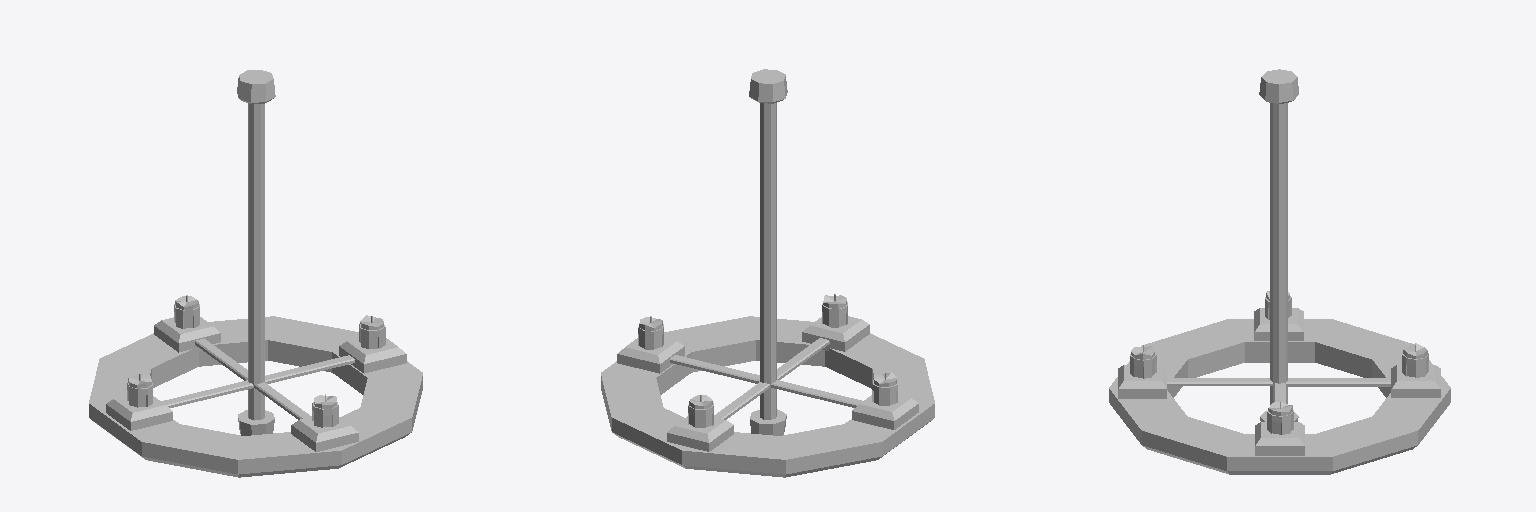
The model's file is chandelier.obj.
3 views of the same model, side by side, from view 1: azimuth 30°, elevation 25°; view 2: azimuth 150°, elevation 25°; view 3: azimuth 270°, elevation 25° (orthographic).
Visible parts, largest first — view 1: Lantern_3_Cylinder.003; view 2: Lantern_3_Cylinder.003; view 3: Lantern_3_Cylinder.003.
Part boxes in pixels (x1,y1,x2,y2): Lantern_3_Cylinder.003: (89,70,422,477); Lantern_3_Cylinder.003: (601,69,934,477); Lantern_3_Cylinder.003: (1109,69,1450,474).
Bounding box in the file's own units: 0.9073 × 1.1 × 0.954.